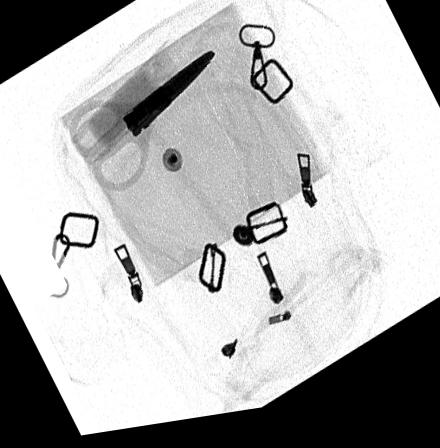Scissors: (69, 52, 216, 197)
